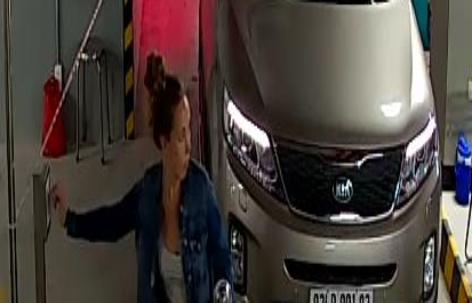plate: (301, 280, 374, 302)
